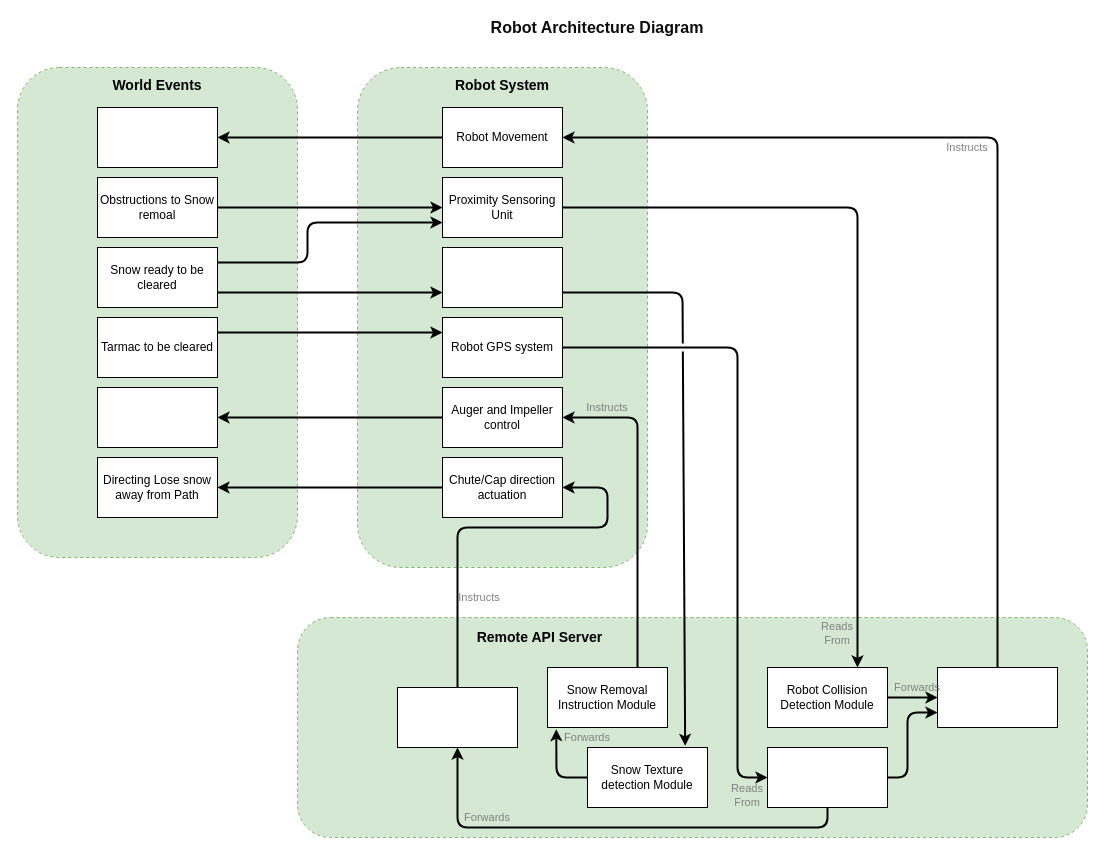
The diagram is 1105 pixels wide and 855 high, and some of its shapes have lost their labels. Here are the shapes that lost their labels. From the top down, the centre of each, then its label:
(x=157, y=137): Safe Manouverability of the Robot
(x=502, y=277): Vision Sensor System
(x=157, y=417): Moving of Snow
(x=457, y=717): Chute/Cap Direction control Module
(x=997, y=697): Robot Movement Instructions Module
(x=827, y=777): Path Finding Module
